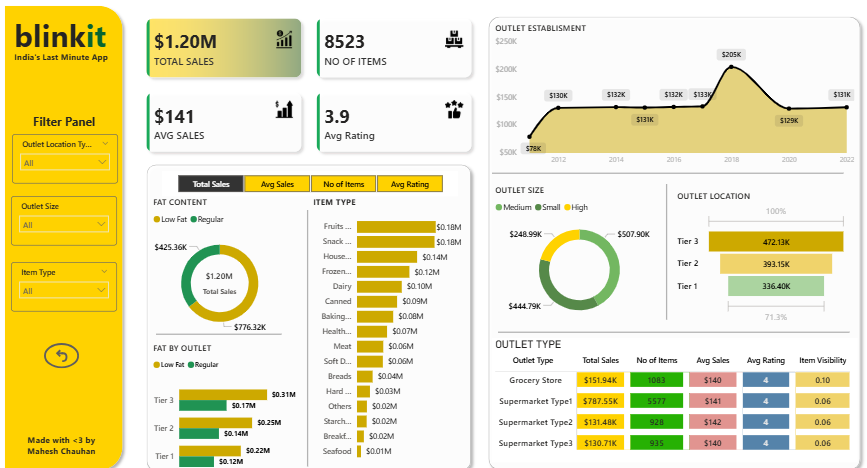

The dashboard page shown, as its layout file describes it:
{"tool":"powerbi","page":{"name":"Page 1","canvas":[1400,800],"ordinal":0},"visuals":[{"type":"shape","box":[22,24.9,203.6,749.8],"z":0},{"type":"textbox","box":[40.4,41.8,168.7,73.9],"z":1000},{"type":"textbox","box":[32.1,100.4,177.1,29.3],"z":2000},{"type":"cardVisual","fields":{"Data":["BlinkIT Grocery Data.Total Sales","BlinkIT Grocery Data.No of Items","BlinkIT Grocery Data.Avg Sales","BlinkIT Grocery Data.Avg Rating"]},"box":[225.5,24.9,571.1,269.5],"z":3000},{"type":"image","box":[456.9,71.8,29.3,29.3],"z":4000},{"type":"image","box":[724.9,71.8,29.3,29.3],"z":5000},{"type":"image","box":[456.9,183.1,29.3,29.3],"z":6000},{"type":"image","box":[724.9,183.1,29.3,29.3],"z":7000},{"type":"shape","box":[246,275.3,528.7,499.4],"z":8000},{"type":"donutChart","title":"FAT CONTENT","fields":{"Y":["BlinkIT Grocery Data.Total Sales"],"Category":["BlinkIT Grocery Data.Item Fat Content"]},"box":[259.2,333.9,219.7,229.9],"z":9000},{"type":"slicer","fields":{"Values":["Metrics.Metrics"]},"box":[278.2,294.4,465.7,39.5],"z":10000},{"type":"card","fields":{"Values":["BlinkIT Grocery Data.Total Sales"]},"box":[316.3,439.3,105.4,60],"z":11000},{"type":"clusteredBarChart","title":"FAT BY OUTLET","fields":{"Y":["BlinkIT Grocery Data.Total Sales"],"Category":["BlinkIT Grocery Data.Outlet Location Type"],"Series":["BlinkIT Grocery Data.Item Fat Content"]},"box":[259.2,563.8,234.3,221.1],"z":12000},{"type":"shape","box":[269.5,515.5,197.7,73.2],"z":12001},{"type":"shape","box":[478.9,355.9,58.6,404.2],"z":12002},{"type":"barChart","title":"ITEM TYPE","fields":{"Category":["BlinkIT Grocery Data.Item Type"],"Y":["BlinkIT Grocery Data.Total Sales"]},"box":[511.1,333.9,243.1,426.2],"z":12003},{"type":"shape","box":[784.9,42.5,603.3,732.2],"z":12004},{"type":"lineChart","title":"OUTLET ESTABLISMENT","fields":{"Y":["BlinkIT Grocery Data.Total Sales"],"Category":["BlinkIT Grocery Data.Outlet Establishment Year"]},"box":[798.1,60,575.5,234.3],"z":12005},{"type":"shape","box":[798.1,260.7,553.6,73.2],"z":12006},{"type":"donutChart","title":"OUTLET SIZE","fields":{"Y":["BlinkIT Grocery Data.Total Sales"],"Category":["BlinkIT Grocery Data.Outlet Size"]},"box":[798.1,314.9,275.3,225.5],"z":12007},{"type":"shape","box":[1044.1,314.9,58.6,213.8],"z":12008},{"type":"funnel","title":"OUTLET LOCATION","fields":{"Y":["Sum(BlinkIT Grocery Data.Sales)"],"Category":["BlinkIT Grocery Data.Outlet Location Type"]},"box":[1085.1,325.1,276.8,215.3],"z":12009},{"type":"shape","box":[808.4,511.1,553.6,73.2],"z":12010},{"type":"pivotTable","title":"OUTLET TYPE","fields":{"Rows":["BlinkIT Grocery Data.Outlet Type"],"Values":["BlinkIT Grocery Data.Total Sales","BlinkIT Grocery Data.No of Items","BlinkIT Grocery Data.Avg Sales","BlinkIT Grocery Data.Avg Rating","Avg(BlinkIT Grocery Data.Item Visibility)"]},"box":[798.1,557.9,575.5,196.2],"z":12011},{"type":"slicer","fields":{"Values":["BlinkIT Grocery Data.Outlet Size"]},"box":[41,333.9,166.9,77.6],"z":12012},{"type":"slicer","fields":{"Values":["BlinkIT Grocery Data.Outlet Location Type"]},"box":[42.5,235.8,166.9,77.6],"z":12013},{"type":"slicer","fields":{"Values":["BlinkIT Grocery Data.Item Type"]},"box":[41,437.9,166.9,77.6],"z":12014},{"type":"textbox","box":[43.9,197.7,161.1,38.1],"z":12015},{"type":"actionButton","box":[92.6,564.6,55.3,39.9],"z":12016},{"type":"textbox","box":[56.6,703.5,127.3,81],"z":12017}]}

Visuals, with their boxes on the page's 1400x800 design canvas (x1, y1, x2, y2). These are canvas units, not pixel positions in the 867x468 screenshot, which may show the page scaled, cropped or inside an application window:
shape: bbox=(22, 25, 226, 775)
textbox: bbox=(40, 42, 209, 116)
textbox: bbox=(32, 100, 209, 130)
cardVisual - BlinkIT Grocery Data.Total Sales x BlinkIT Grocery Data.No of Items: bbox=(226, 25, 797, 294)
image: bbox=(457, 72, 486, 101)
image: bbox=(725, 72, 754, 101)
image: bbox=(457, 183, 486, 212)
image: bbox=(725, 183, 754, 212)
shape: bbox=(246, 275, 775, 775)
"FAT CONTENT" donutChart: bbox=(259, 334, 479, 564)
slicer - Metrics.Metrics: bbox=(278, 294, 744, 334)
card - BlinkIT Grocery Data.Total Sales: bbox=(316, 439, 422, 499)
"FAT BY OUTLET" clusteredBarChart: bbox=(259, 564, 494, 785)
shape: bbox=(270, 516, 467, 589)
shape: bbox=(479, 356, 538, 760)
"ITEM TYPE" barChart: bbox=(511, 334, 754, 760)
shape: bbox=(785, 42, 1388, 775)
"OUTLET ESTABLISMENT" lineChart: bbox=(798, 60, 1374, 294)
shape: bbox=(798, 261, 1352, 334)
"OUTLET SIZE" donutChart: bbox=(798, 315, 1073, 540)
shape: bbox=(1044, 315, 1103, 529)
"OUTLET LOCATION" funnel: bbox=(1085, 325, 1362, 540)
shape: bbox=(808, 511, 1362, 584)
"OUTLET TYPE" pivotTable: bbox=(798, 558, 1374, 754)
slicer - BlinkIT Grocery Data.Outlet Size: bbox=(41, 334, 208, 412)
slicer - BlinkIT Grocery Data.Outlet Location Type: bbox=(42, 236, 209, 313)
slicer - BlinkIT Grocery Data.Item Type: bbox=(41, 438, 208, 516)
textbox: bbox=(44, 198, 205, 236)
actionButton: bbox=(93, 565, 148, 604)
textbox: bbox=(57, 704, 184, 784)
